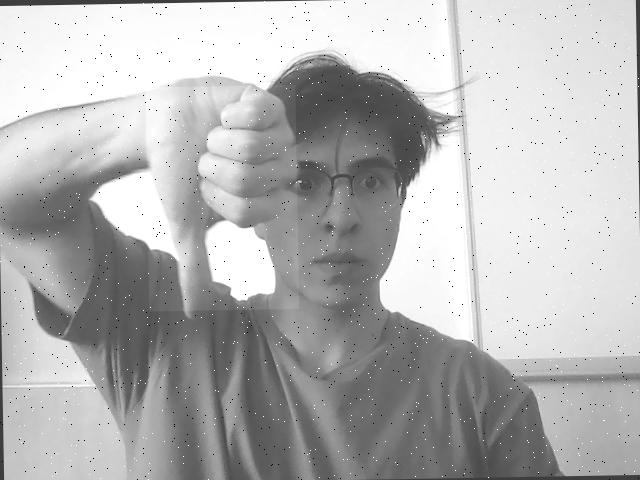bad: (146, 84, 298, 311)
